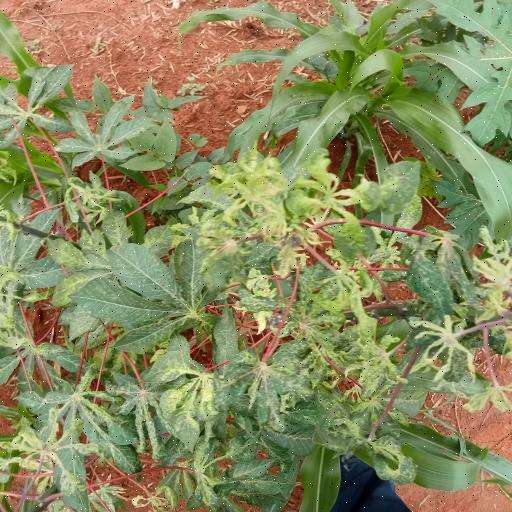Cassava_Mosaic: (80, 243, 205, 341), (11, 390, 140, 476), (183, 434, 286, 512), (66, 98, 147, 162)
